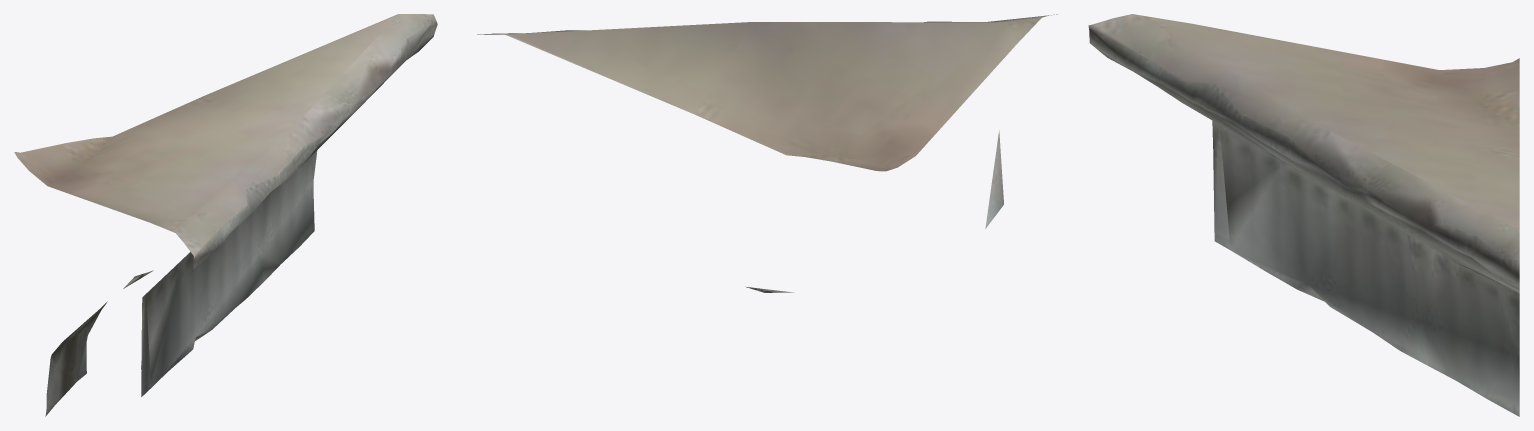
3 renders of one model, left to right at view 1: azimuth 30°, elevation 25°; view 2: azimuth 150°, elevation 25°; view 3: azimuth 270°, elevation 25°, orthographic. The views are drawn at different scales.
Size of the model in its own units: 1.24 by 0.8267 by 0.9137.
Materials: 1 (1 with a texture image).
